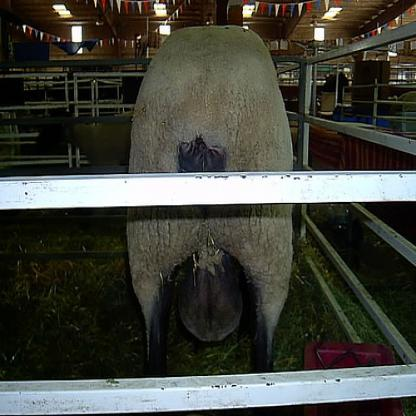sheep: (127, 24, 294, 378)
